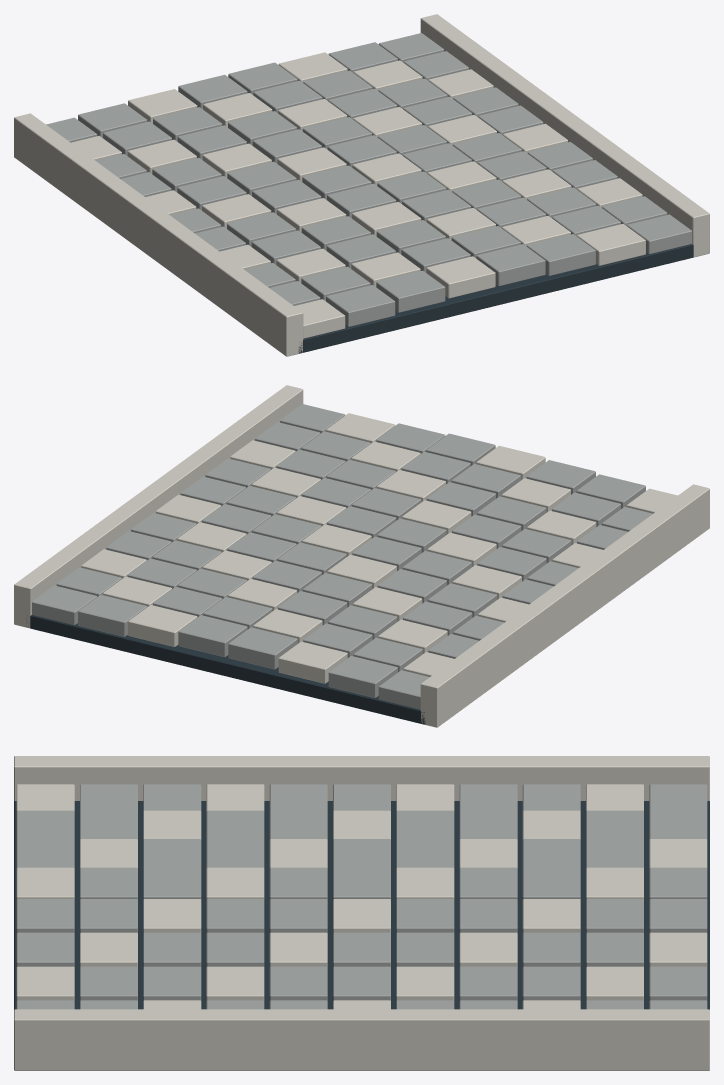
The model's file is b13_crowned_cobblestone_alley.glb.
The picture shows the model from 3 angles, top to bottom: view 1: azimuth 30°, elevation 25°; view 2: azimuth 150°, elevation 25°; view 3: azimuth 270°, elevation 25°; orthographic projection. The views are drawn at different scales.
Parts seen in each view (by area): view 1: b13_crowned_cobblestone_alley; view 2: b13_crowned_cobblestone_alley; view 3: b13_crowned_cobblestone_alley.
Boxes of the visible parts, left/top/right/bottom form: b13_crowned_cobblestone_alley: left=14, top=14, right=709, bottom=356; b13_crowned_cobblestone_alley: left=14, top=385, right=709, bottom=727; b13_crowned_cobblestone_alley: left=14, top=756, right=709, bottom=1070.
Bounding box in the file's own units: 2.96 × 0.27 × 3.3.
